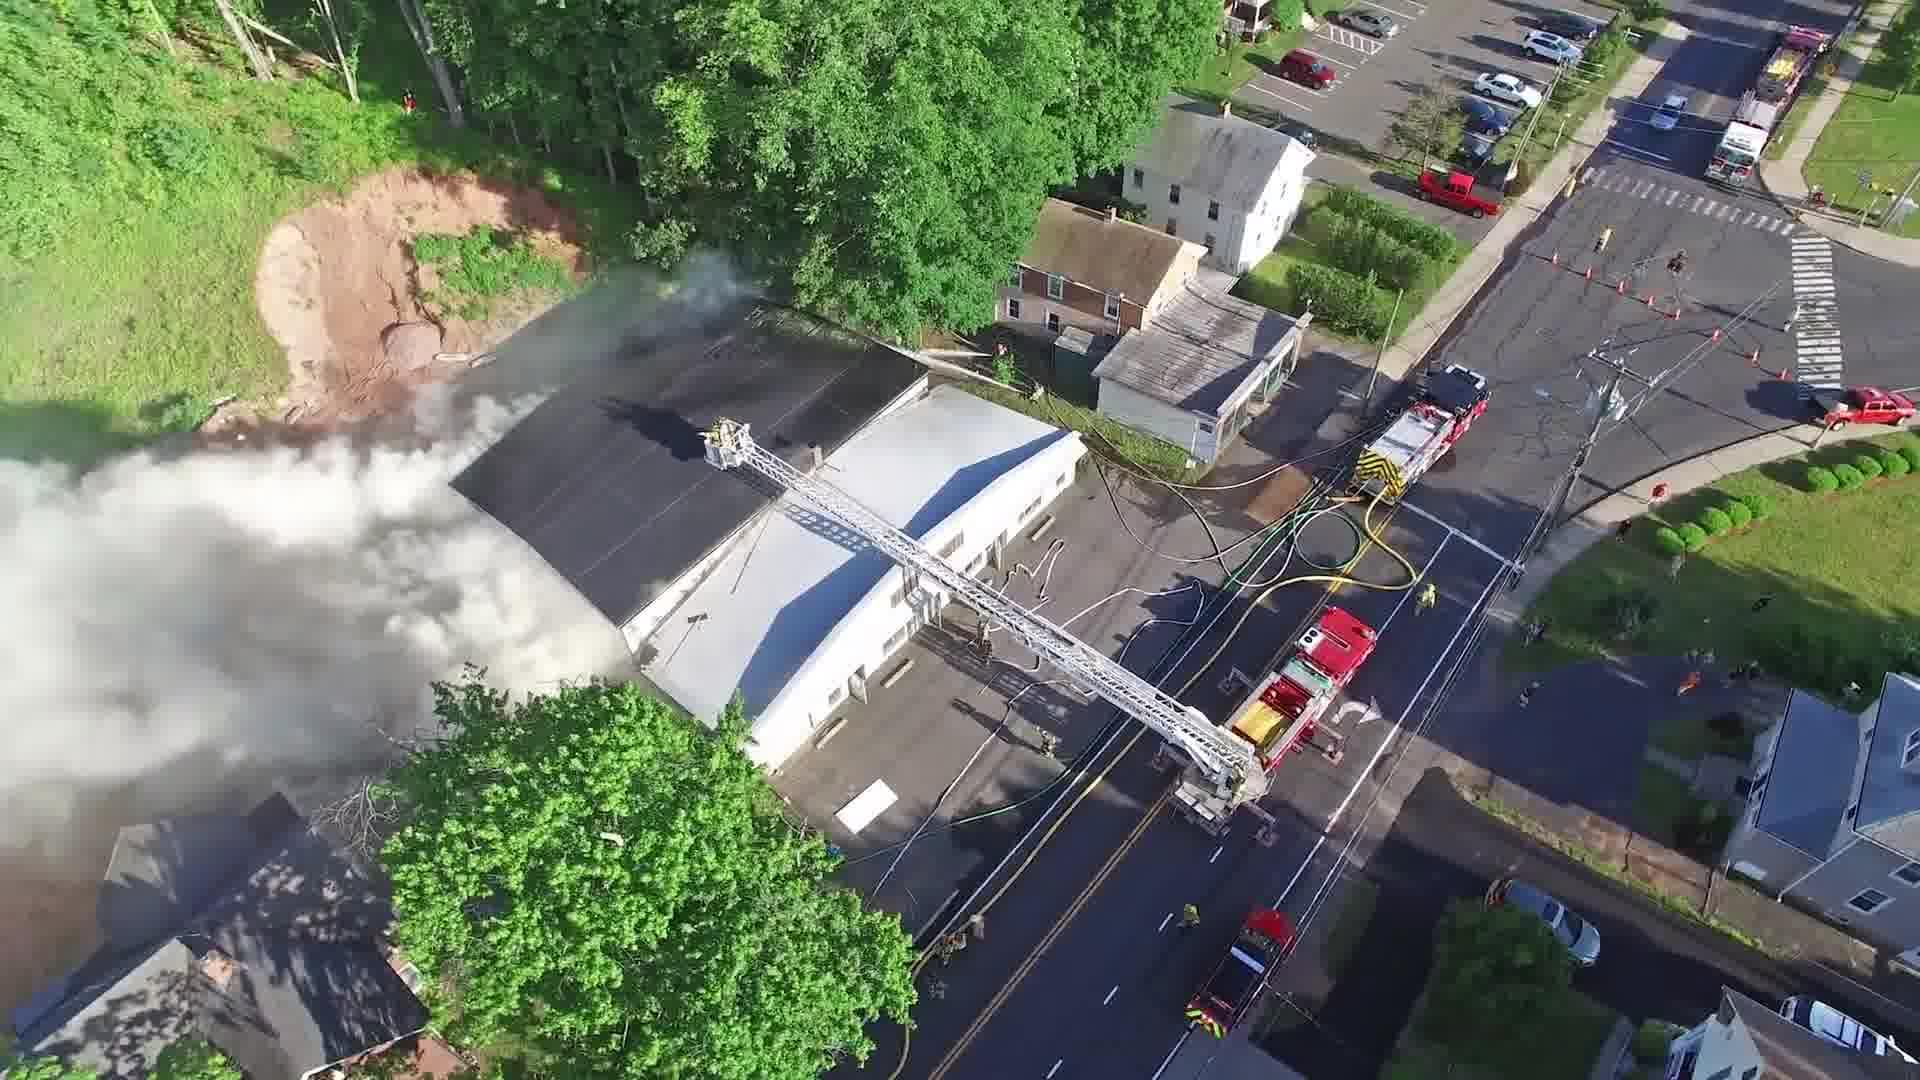smoke: (5, 513, 527, 728)
